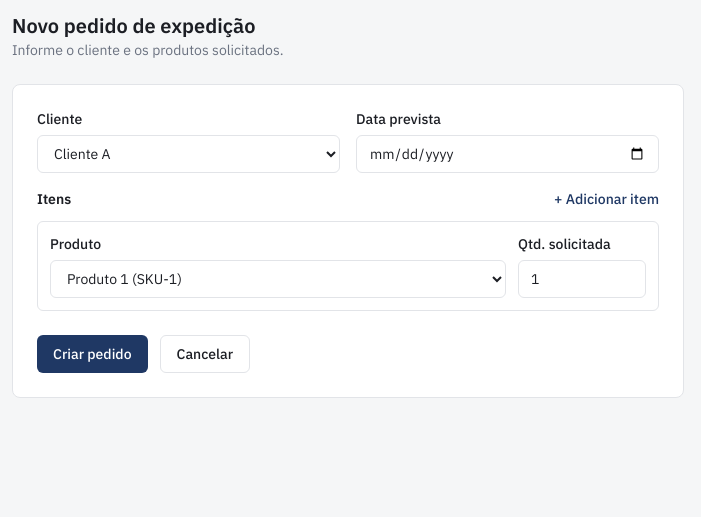
PedidoExpedicaoFormPage › adiciona e remove linhas de item dinamicamente
The image size is (701, 517).
Expected: the number of dropdowns labelled "Produto" is 1, [50, 260, 506, 298]
Click the button "+ Adicionar item" at (606, 199), box [554, 189, 659, 209]
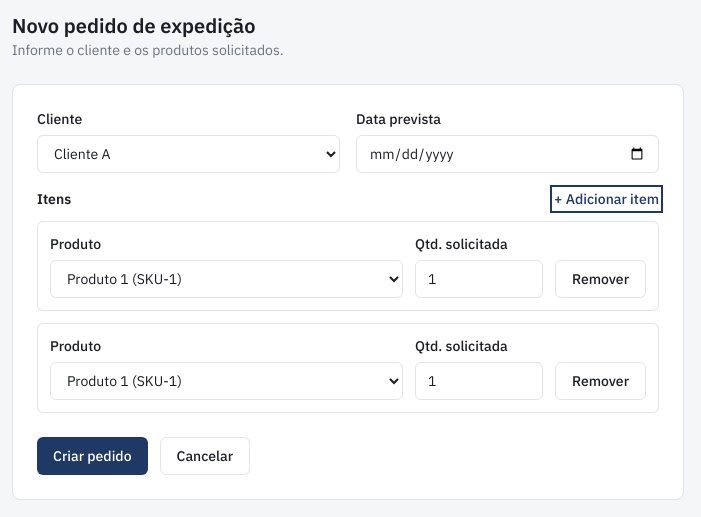
Expected: the number of dropdowns labelled "Produto" is 2, [50, 260, 403, 298]; [50, 362, 403, 400]
Click the 1st button "Remover" at (600, 279), box [555, 260, 646, 298]
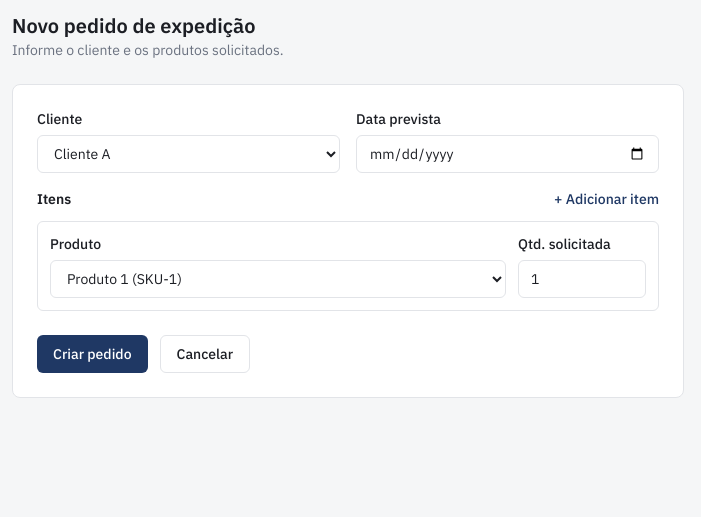
Expected: the number of dropdowns labelled "Produto" is 1, [50, 260, 506, 298]
